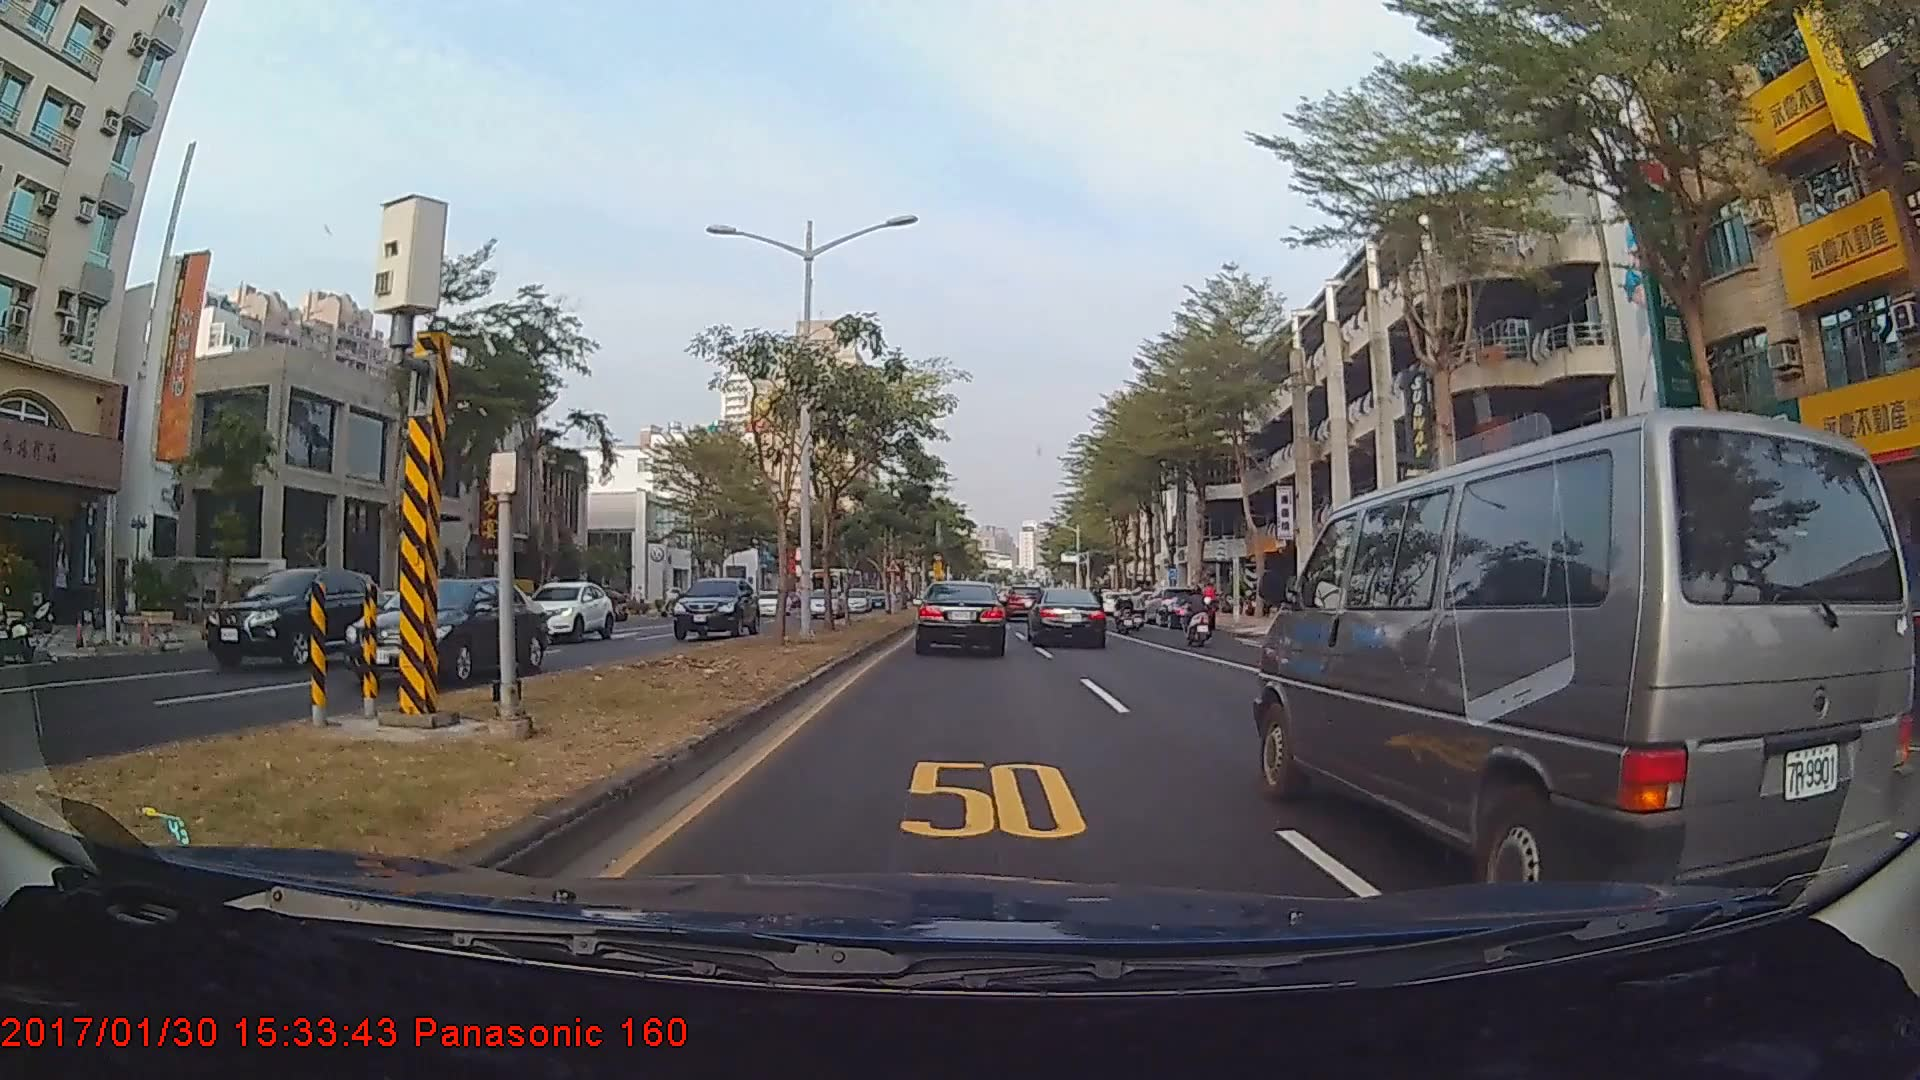rider: (1176, 580, 1216, 649)
vehicle: (1251, 400, 1890, 902), (341, 572, 553, 689), (201, 564, 389, 669), (916, 578, 1005, 654), (514, 578, 614, 641), (670, 574, 759, 637), (1029, 586, 1107, 649), (1150, 593, 1214, 629), (1003, 578, 1042, 613), (746, 586, 792, 614), (804, 587, 845, 618)
